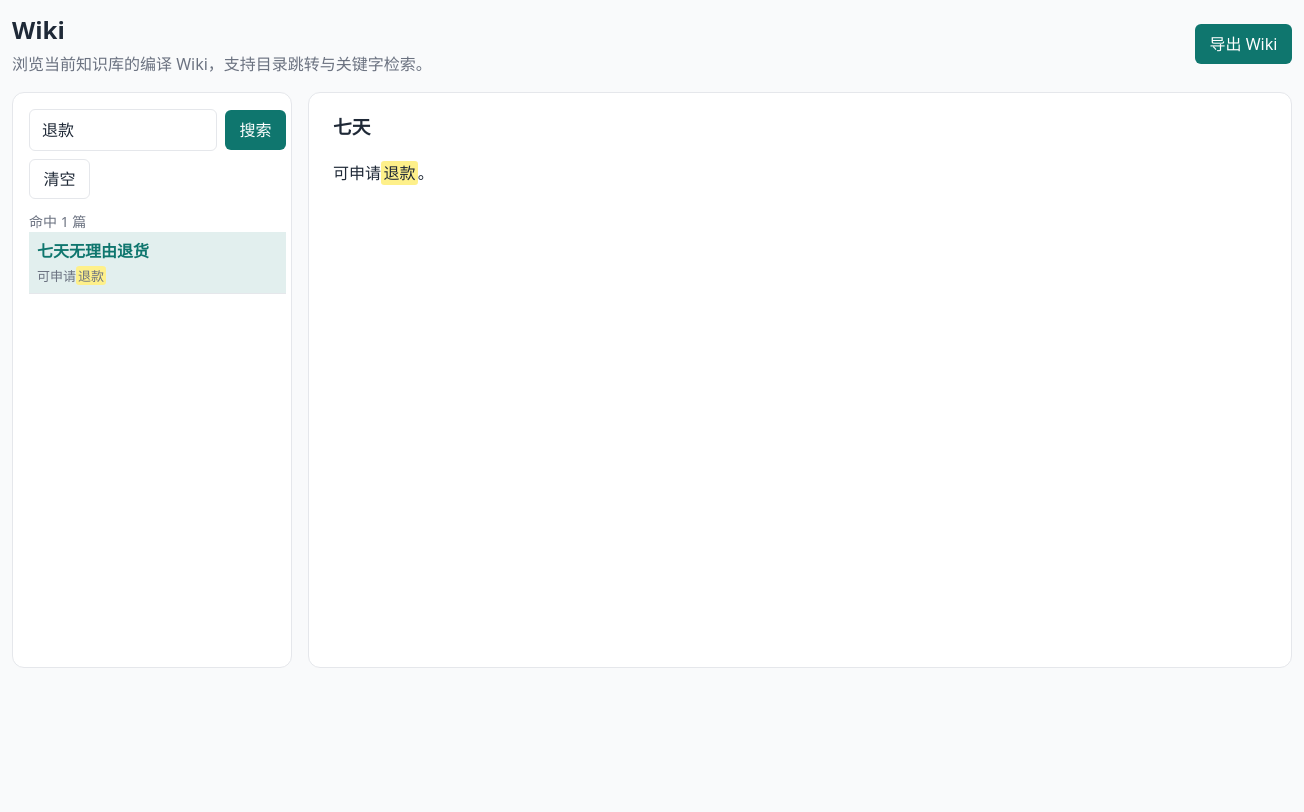
Test: WikiPage › clears search query and restores tree mode
Expected: the text "命中 1 篇" is shown, [29, 212, 86, 231]
Click the button "清空": (60, 179) [29, 159, 90, 199]
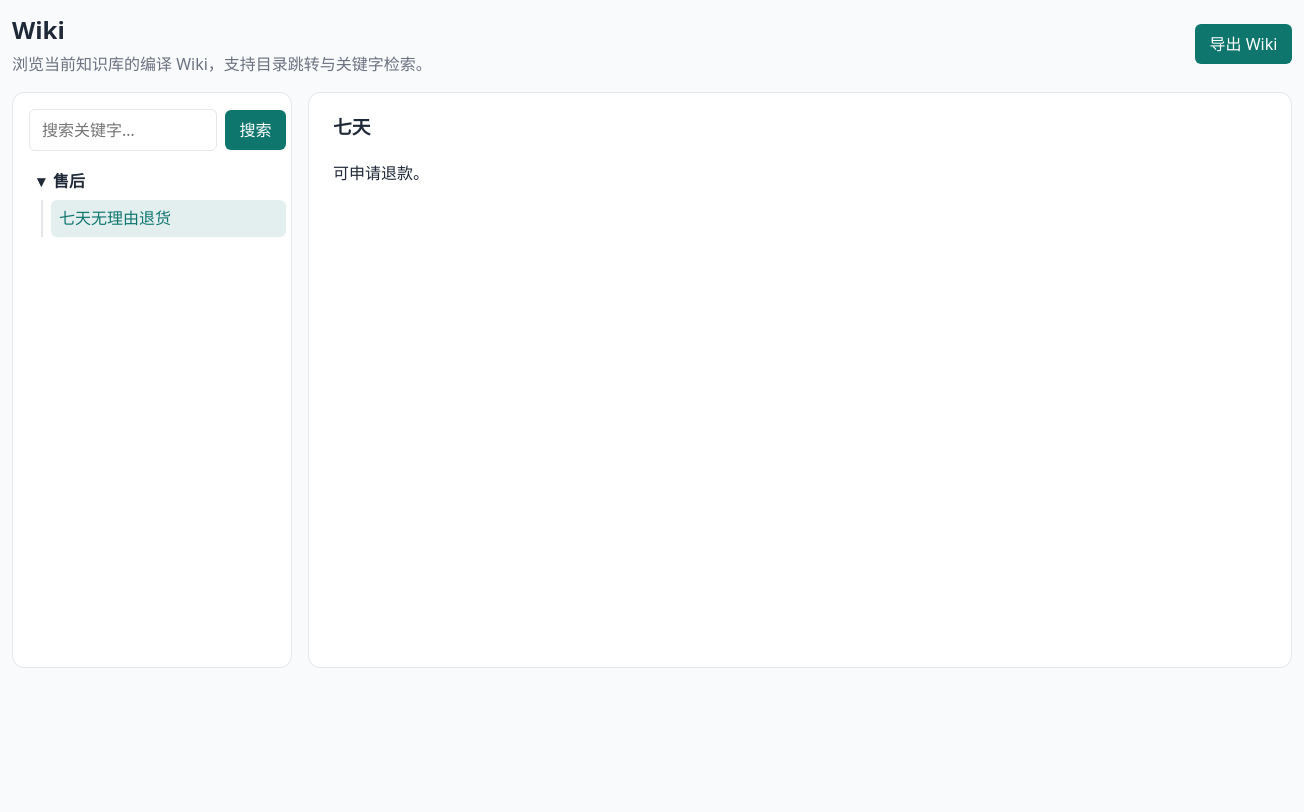
Expected: the button "七天无理由退货" is shown, [51, 200, 286, 237]
Expected: the text "命中" is gone
Expected: the search field with placeholder "搜索关键字…" is empty, [29, 109, 217, 151]
